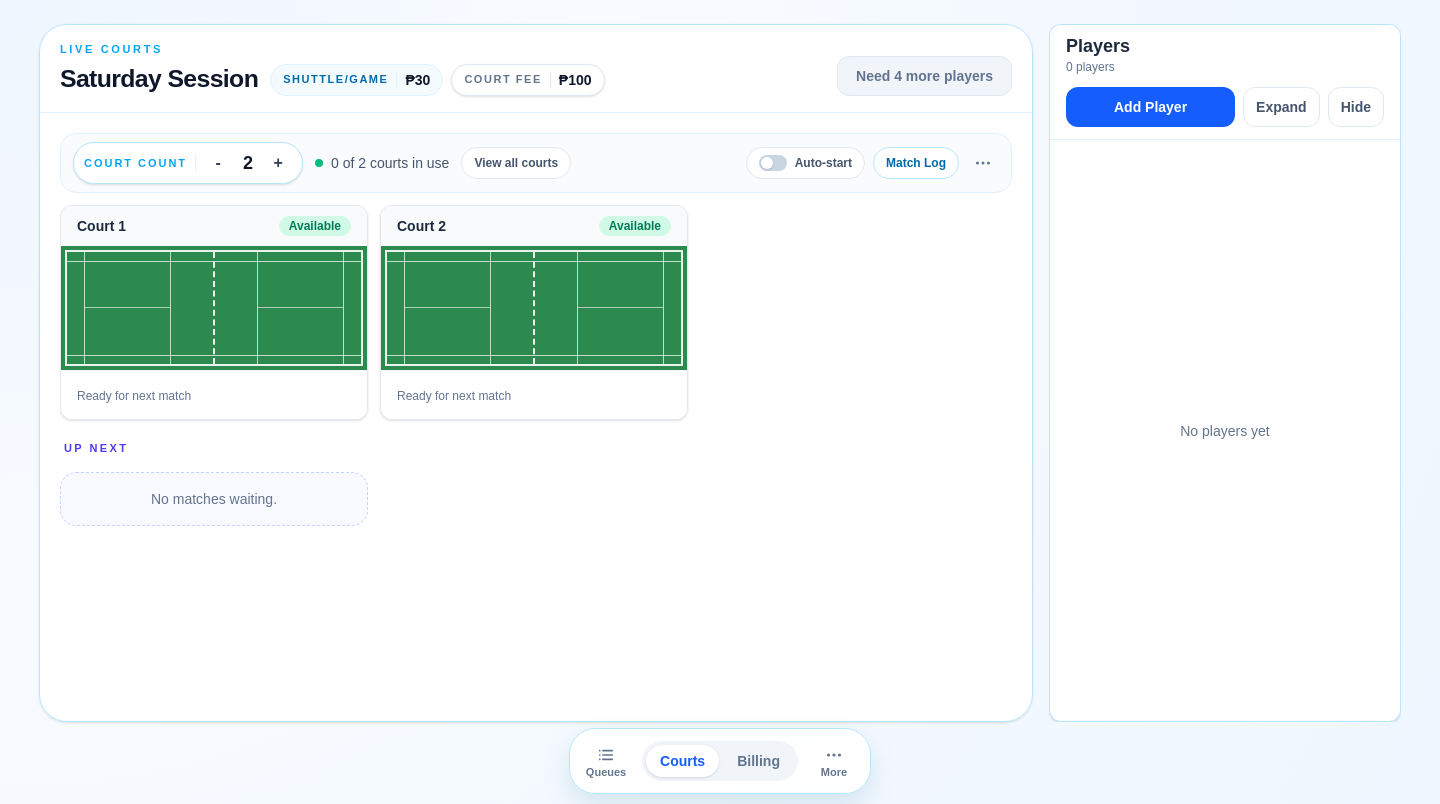
Test: Billing tab › keeps the dialog open with the database message when saving fails
Step 1. Click the button "Billing" → [759, 761], box x1=723 y1=745 x2=794 y2=777
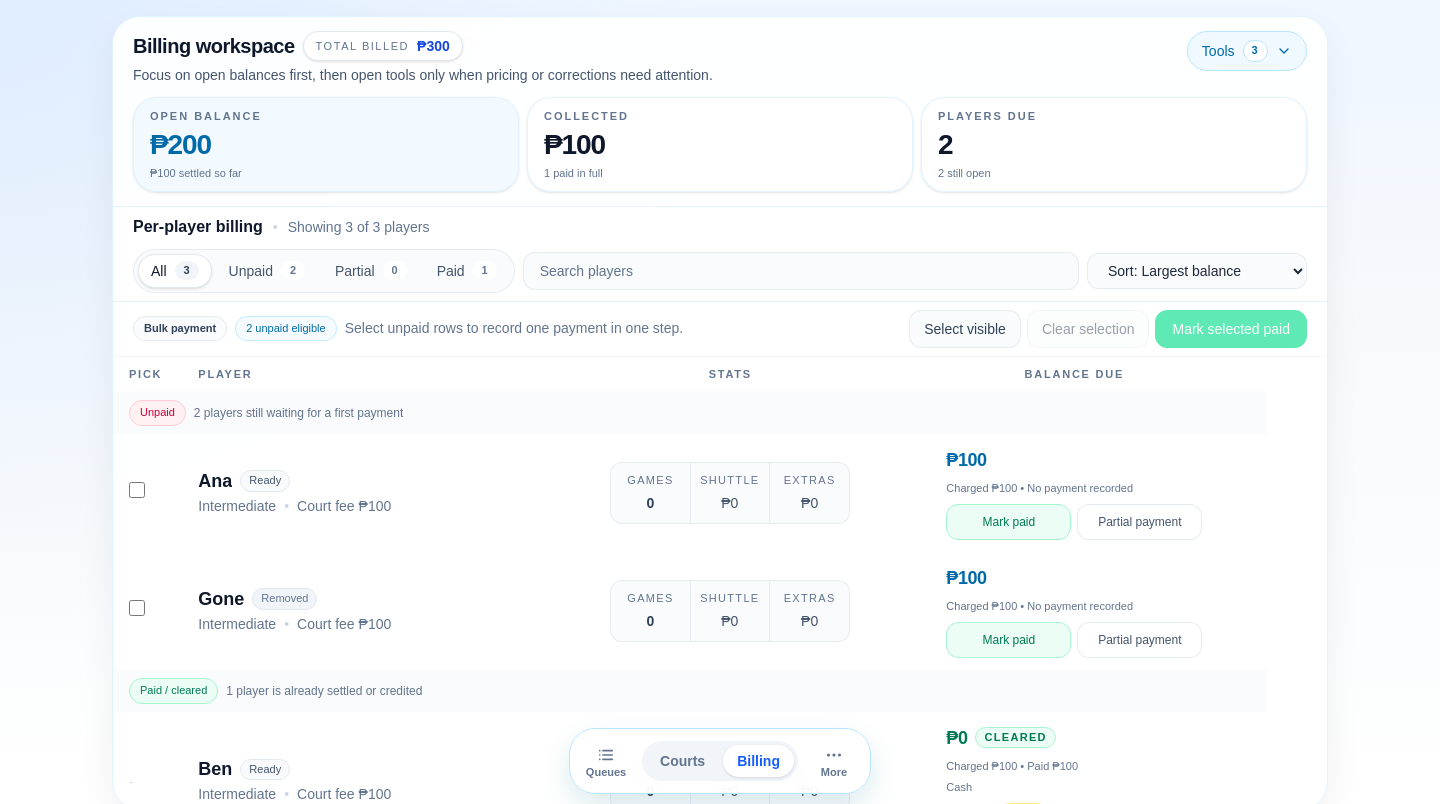
Now the heading "Billing workspace" is shown, box x1=133 y1=32 x2=295 y2=60
Step 2. Click the button with aria-label "Mark Ana paid" → [1009, 522], box x1=946 y1=504 x2=1071 y2=540
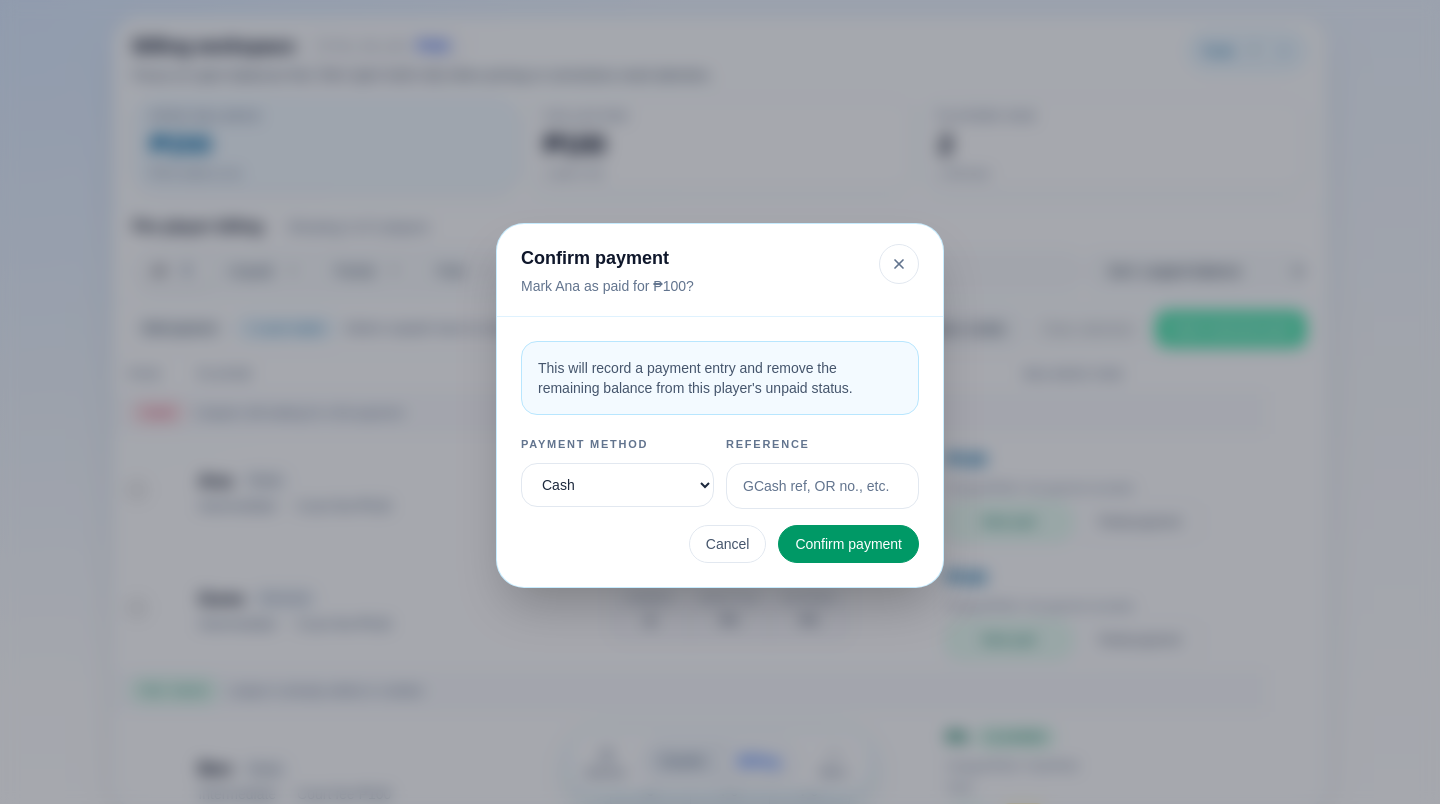
Step 3. Click the button "Confirm payment" → [849, 544], box x1=778 y1=524 x2=919 y2=562
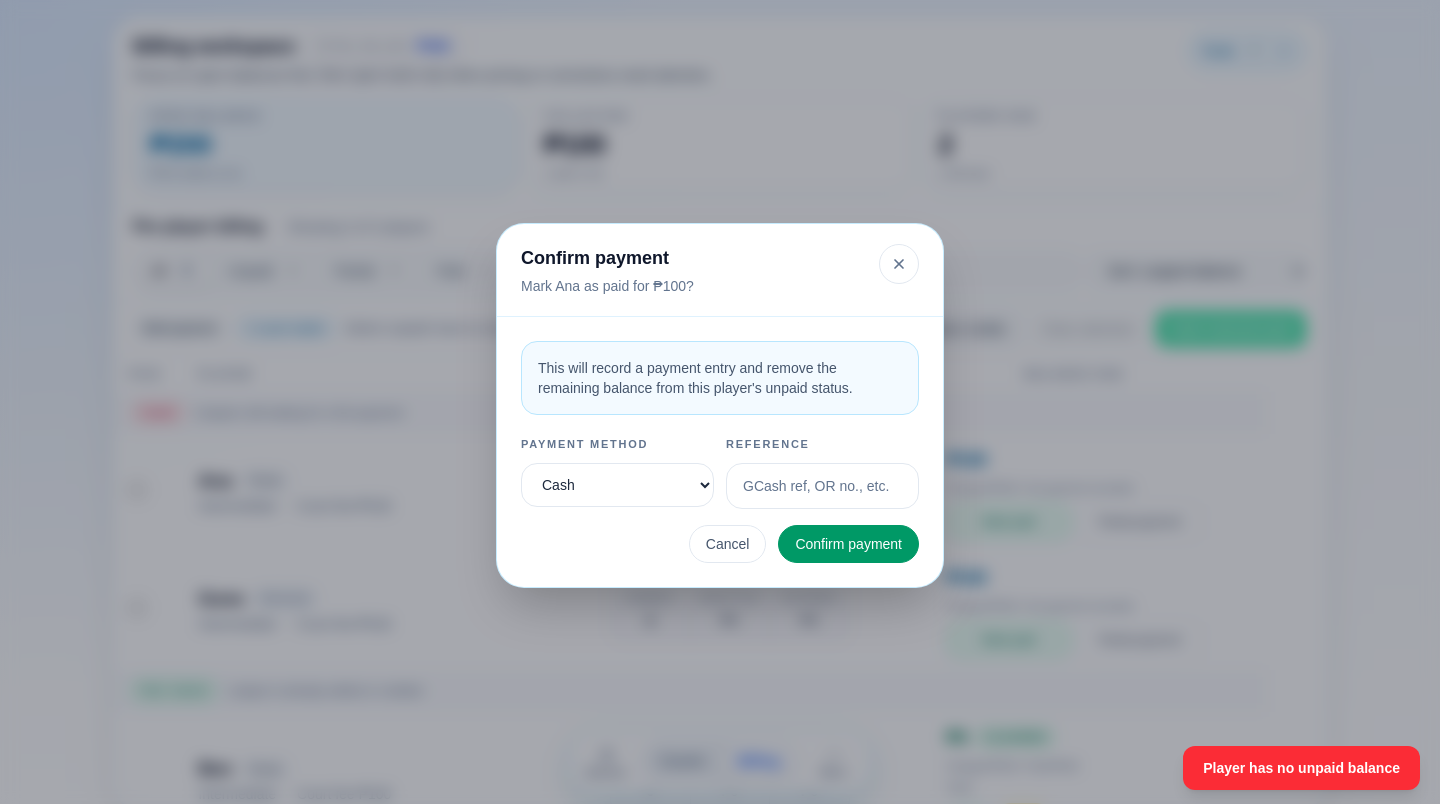
Now the dialog "Confirm payment" is shown, box x1=496 y1=222 x2=944 y2=588
Now the text "Player has no unpaid balance" is shown, box x1=1203 y1=758 x2=1400 y2=778
